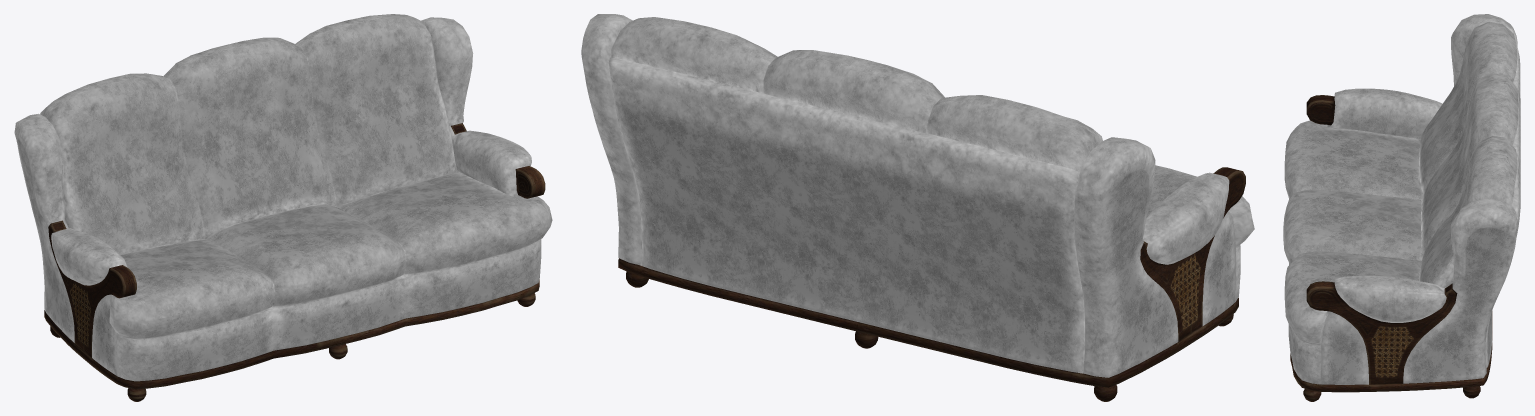
Rendered from WhiteSofa.glb.
3 renders of one model, left to right at view 1: azimuth 30°, elevation 25°; view 2: azimuth 150°, elevation 25°; view 3: azimuth 270°, elevation 25°, orthographic. The views are drawn at different scales.
Parts seen in each view (by area): view 1: sofa_classic_ch_models_; view 2: sofa_classic_ch_models_; view 3: sofa_classic_ch_models_.
Part boxes in pixels (x1,y1,x2,y2): sofa_classic_ch_models_: [14, 14, 552, 401]; sofa_classic_ch_models_: [581, 14, 1254, 401]; sofa_classic_ch_models_: [1283, 14, 1520, 401].
Bounding box in the file's own units: 1.93 × 0.9622 × 0.9421.
Materials: 2 (2 with a texture image).
